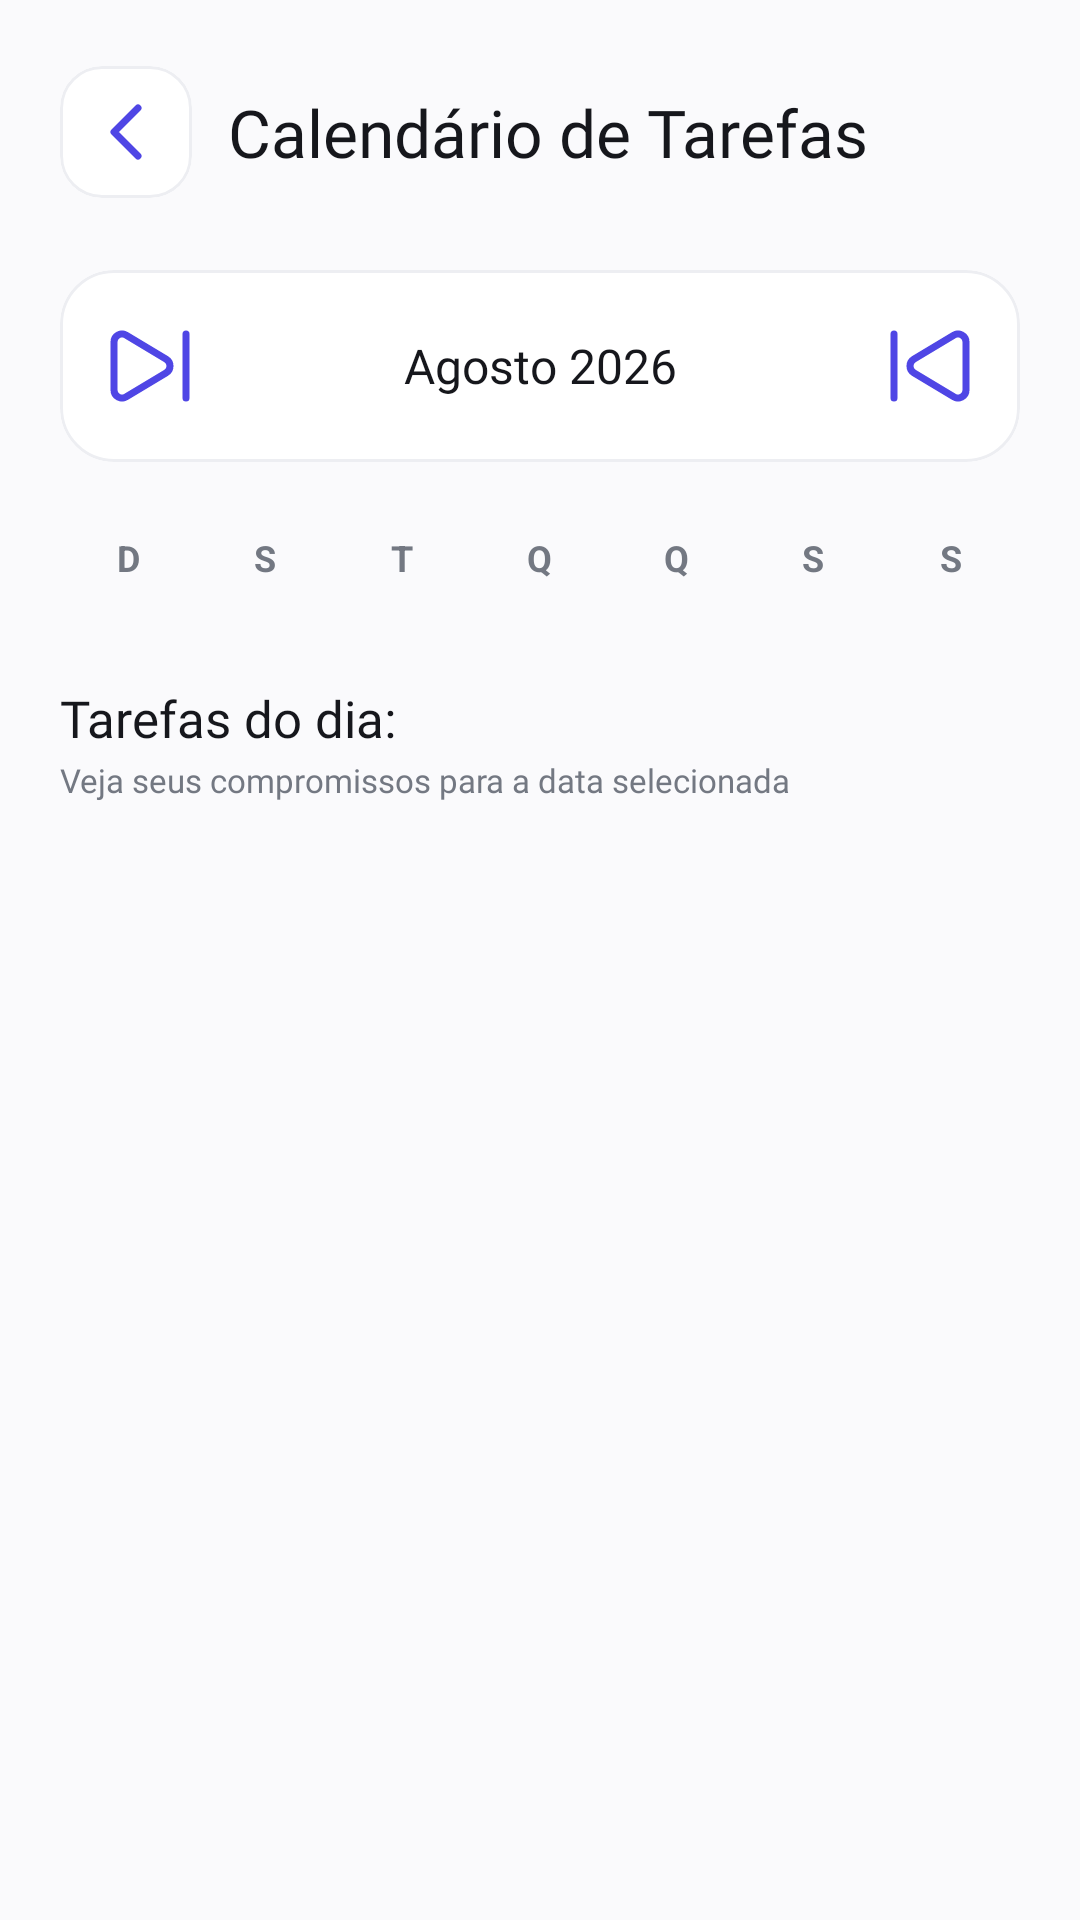

Icon click points for this 1080px×1920px phone screenshot, format point (x, y):
Voltar: point (126, 132)
